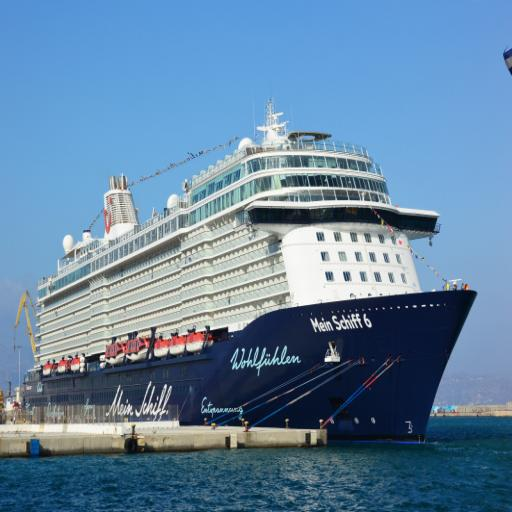cruises: (33, 96, 483, 456)
